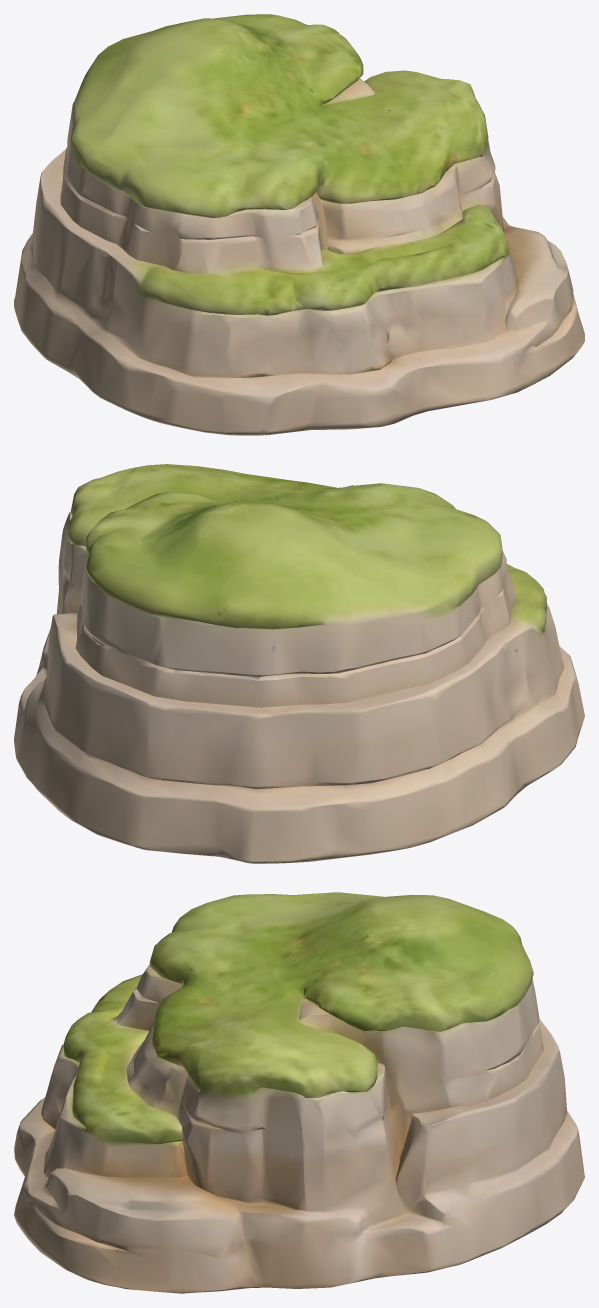
The model's file is cliff-rock-mobile.glb.
The picture shows the model from 3 angles, top to bottom: view 1: azimuth 30°, elevation 25°; view 2: azimuth 150°, elevation 25°; view 3: azimuth 270°, elevation 25°; orthographic projection. The views are drawn at different scales.
Parts seen in each view (by area): view 1: model; view 2: model; view 3: model.
Part boxes in pixels (x1,y1,x2,y2): model: (14,14,584,435); model: (14,464,584,863); model: (14,892,584,1293).
Bounding box in the file's own units: 1.76 × 0.9486 × 1.9.
1 material, 1 textured.
